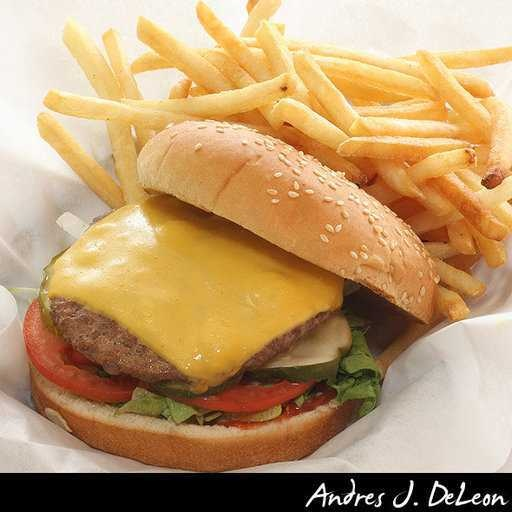hamburger: (6, 127, 470, 450)
